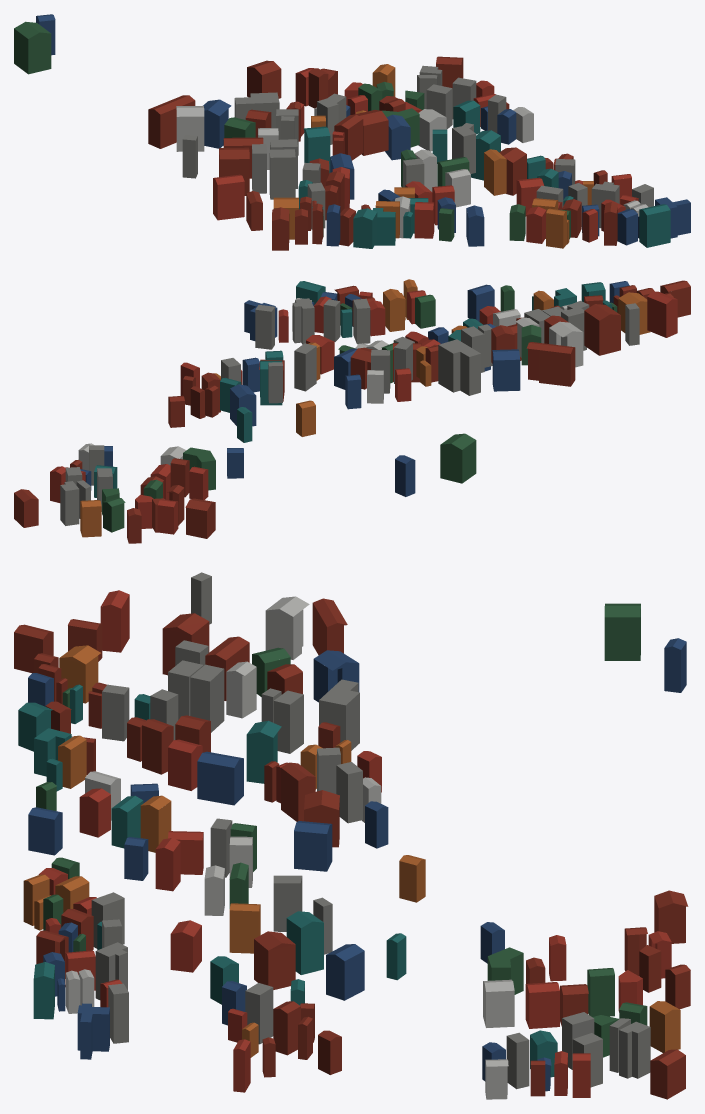
Rendered from near-17-109442-59484.fecfe370.glb.
3 renders of one model, top to bottom at view 1: azimuth 30°, elevation 25°; view 2: azimuth 150°, elevation 25°; view 3: azimuth 270°, elevation 25°, orthographic. The views are drawn at different scales.
Size of the model in its own units: 303 by 123 by 305.
